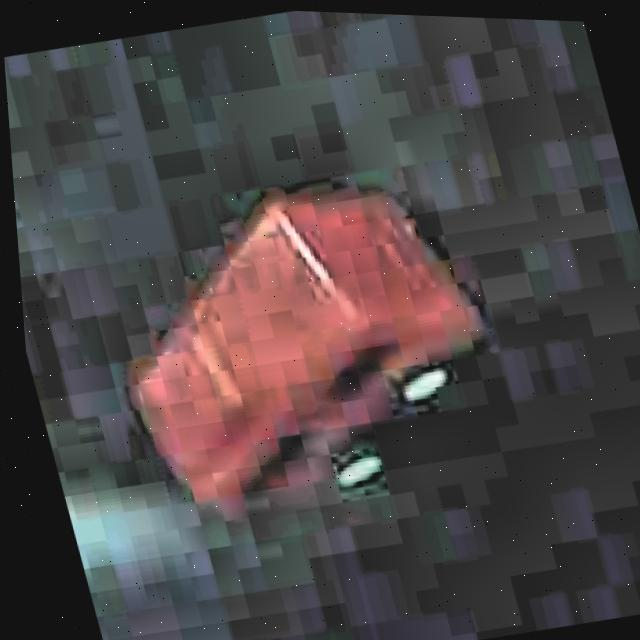bus: (62, 138, 540, 546)
